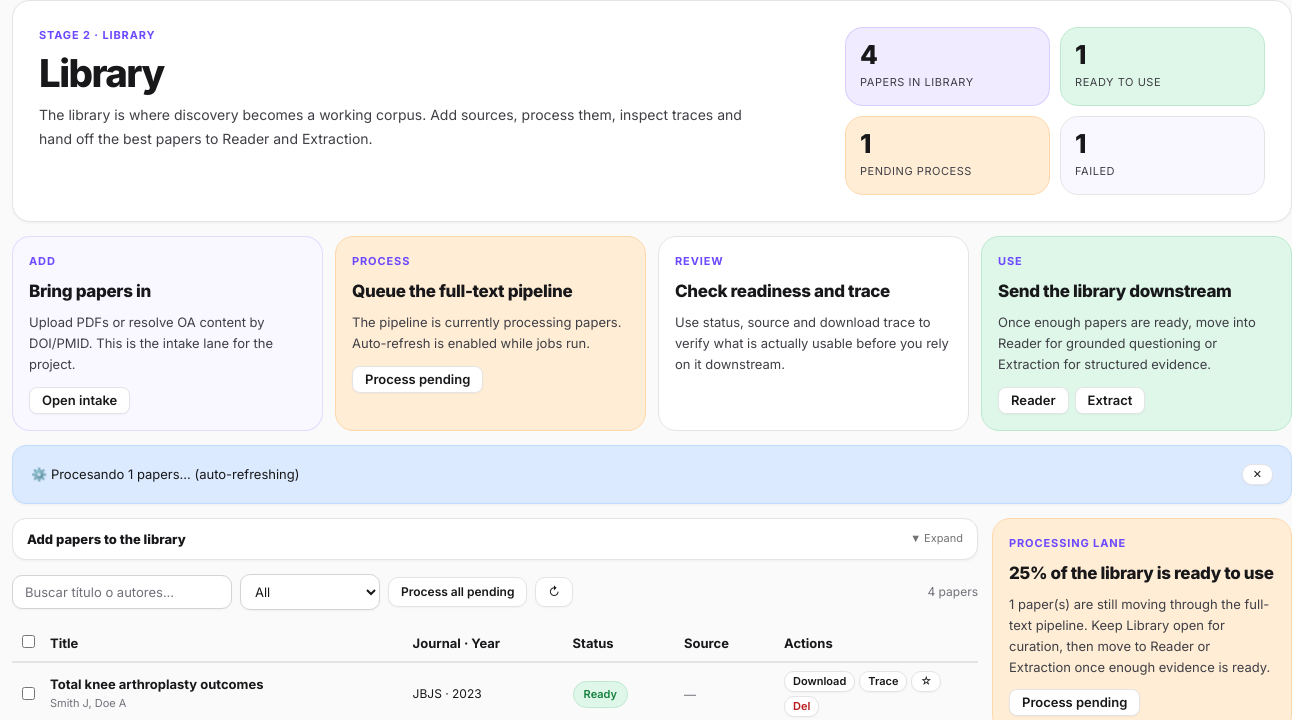
Test: PapersPage — search › filters papers by title text search
The image size is (1292, 720).
Expected: the text "Total knee arthroplasty outcomes" is shown, [50, 676, 264, 692]
In the field with placeholder "Buscar título o autores...": {"x": 122, "y": 592} [12, 575, 232, 609], type "ACL"
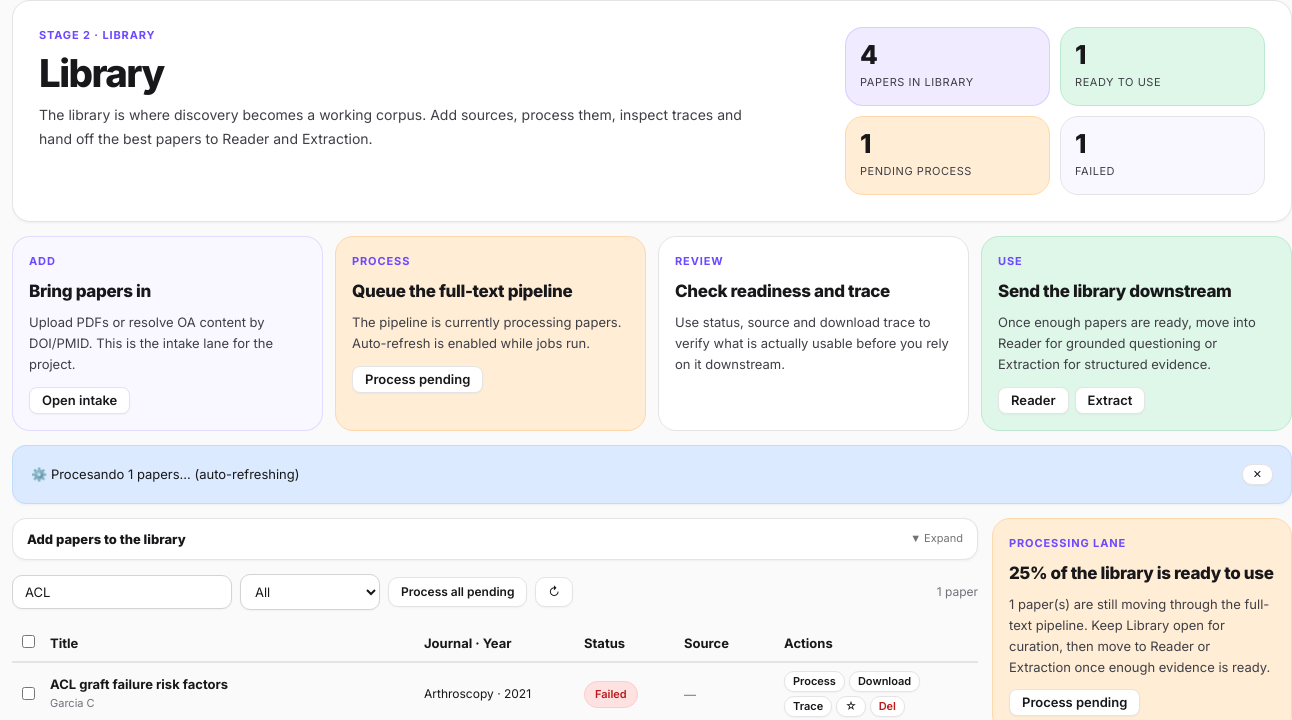
Expected: the text "ACL graft failure risk factors" is shown, [50, 676, 228, 692]
Expected: the text "Total knee arthroplasty outcomes" is gone
